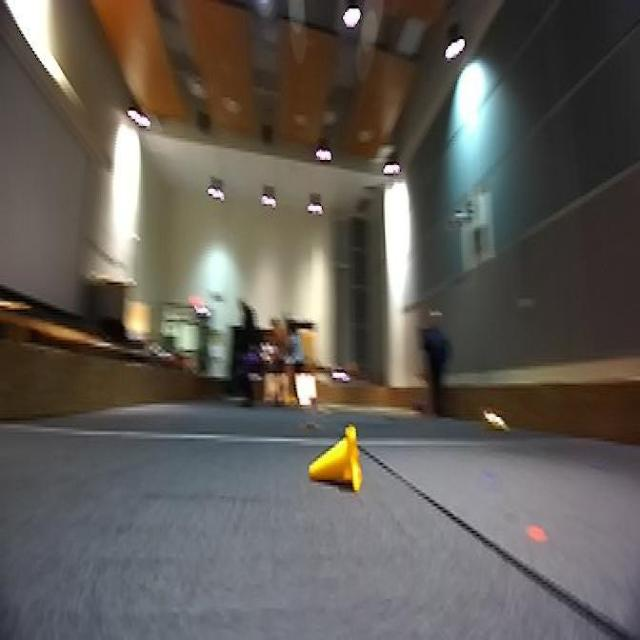frc_cone: (308, 424, 366, 494)
